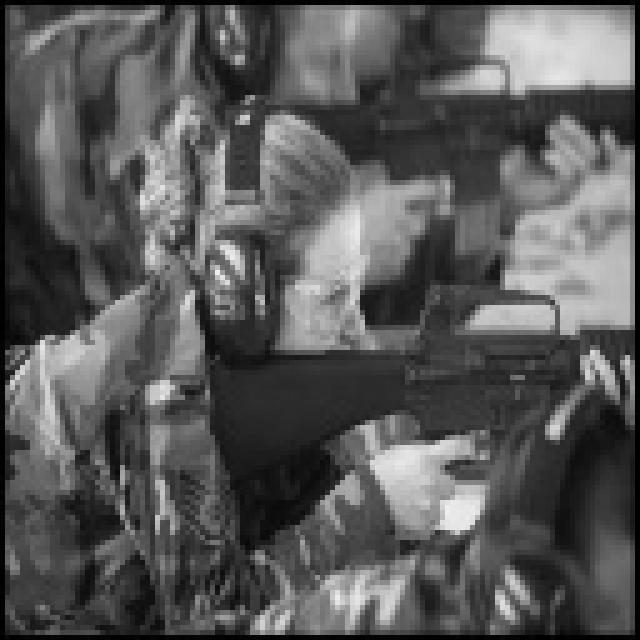Rifle: (165, 254, 640, 581), (194, 26, 640, 210)
